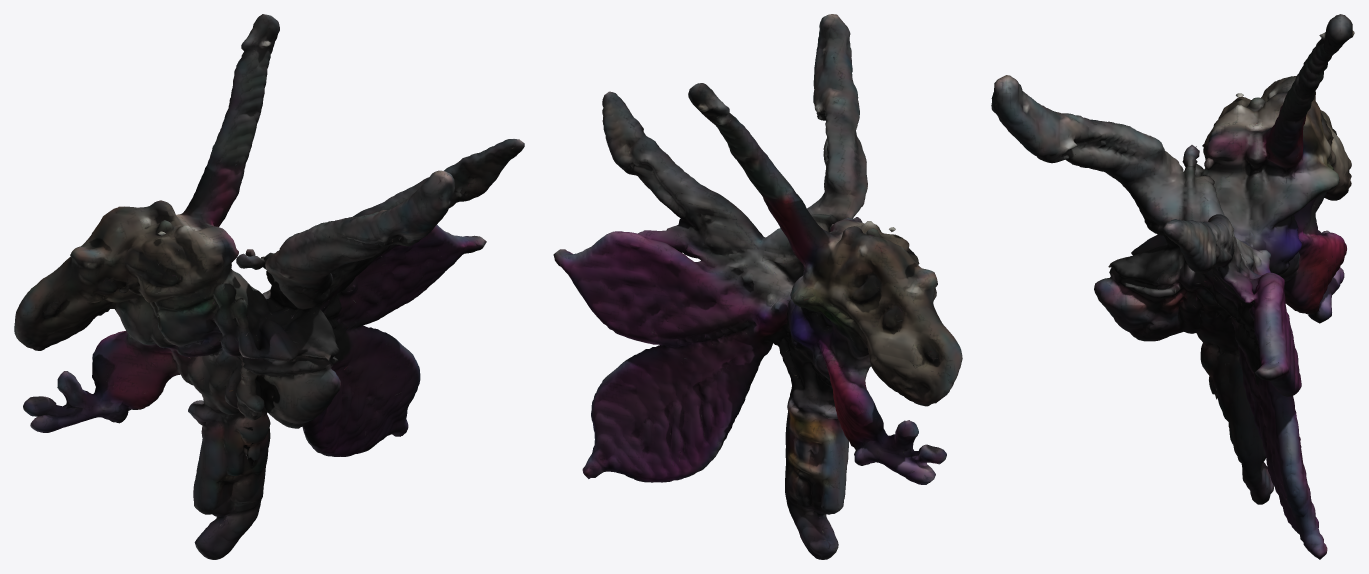
The model's file is Dinoboss .glb.
3 views of the same model, side by side, from view 1: azimuth 30°, elevation 25°; view 2: azimuth 150°, elevation 25°; view 3: azimuth 270°, elevation 25° (orthographic). The views are drawn at different scales.
Visible parts, largest first — view 1: dino; view 2: dino; view 3: dino.
Part boxes in pixels (x1,y1,x2,y2): dino: (14,14,524,559); dino: (553,14,962,559); dino: (991,14,1354,559).
Bounding box in the file's own units: 0.9067 × 0.9744 × 0.6008.
1 material, 1 textured.
